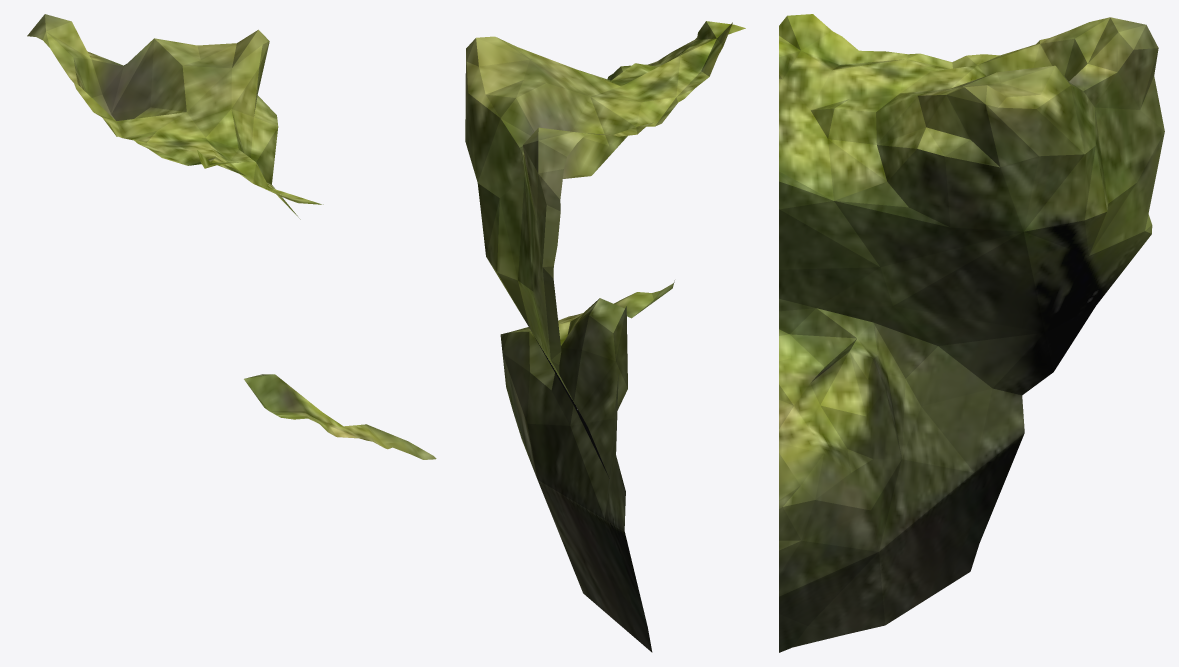
The picture shows the model from 3 angles, left to right: view 1: azimuth 30°, elevation 25°; view 2: azimuth 150°, elevation 25°; view 3: azimuth 270°, elevation 25°; orthographic projection. The views are drawn at different scales.
Size of the model in its own units: 1.55 by 3.44 by 2.13.
1 material, 1 textured.
